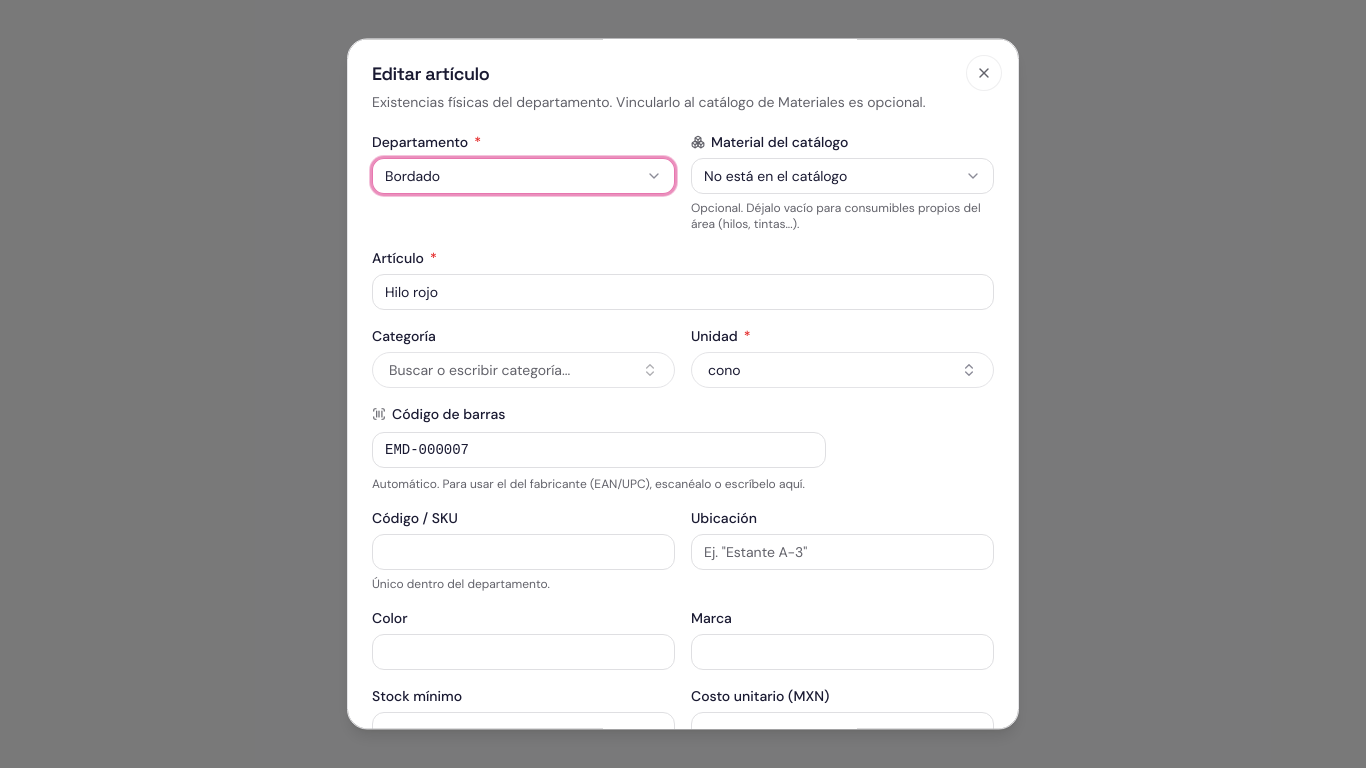
Scenario: InventoryItemDialog · código de barras › muestra el 400 de formato del backend en el campo
Clear the field labelled "Código de barras" at (599, 450), box top-left (372, 432), bottom-right (826, 468)
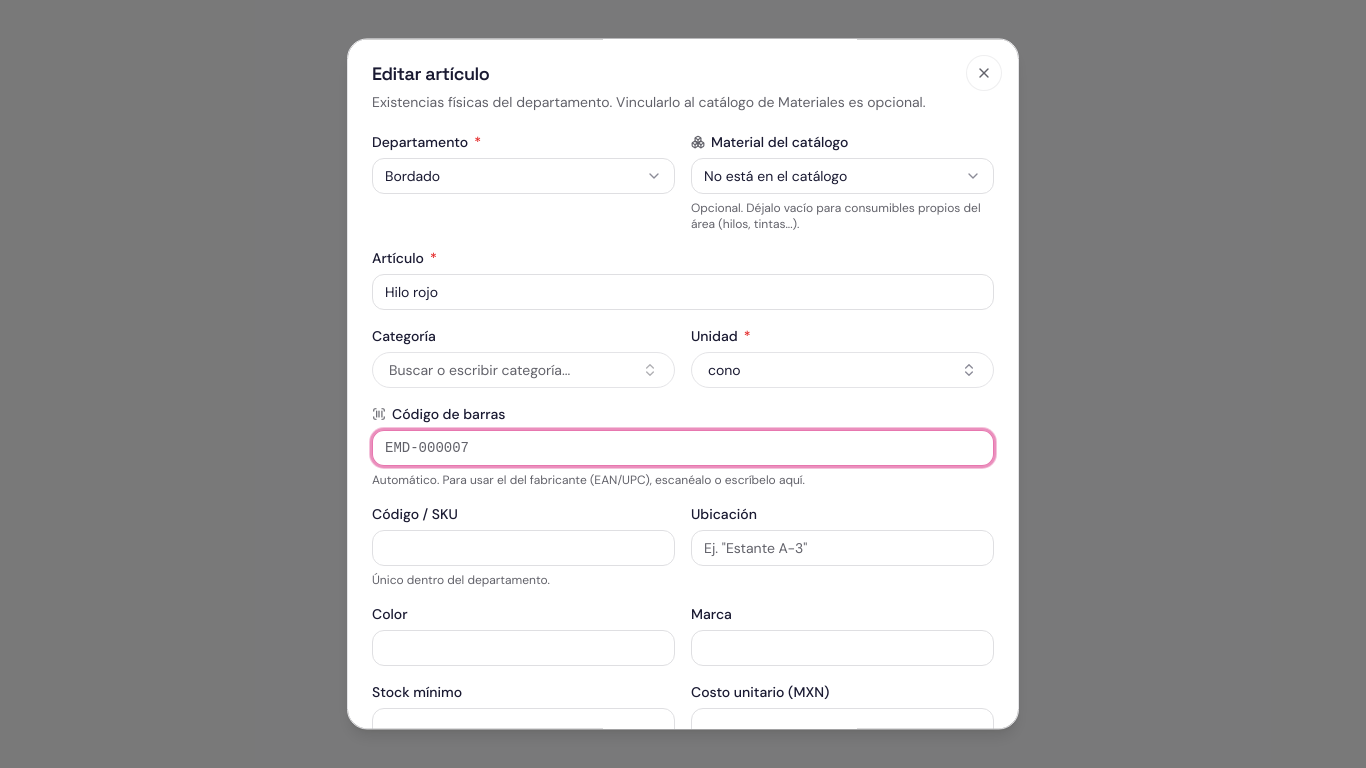
Type "ABC-123" into the field labelled "Código de barras".
click(683, 448); type("ABC-123")  # box top-left (372, 430), bottom-right (994, 466)
(page scrolled)
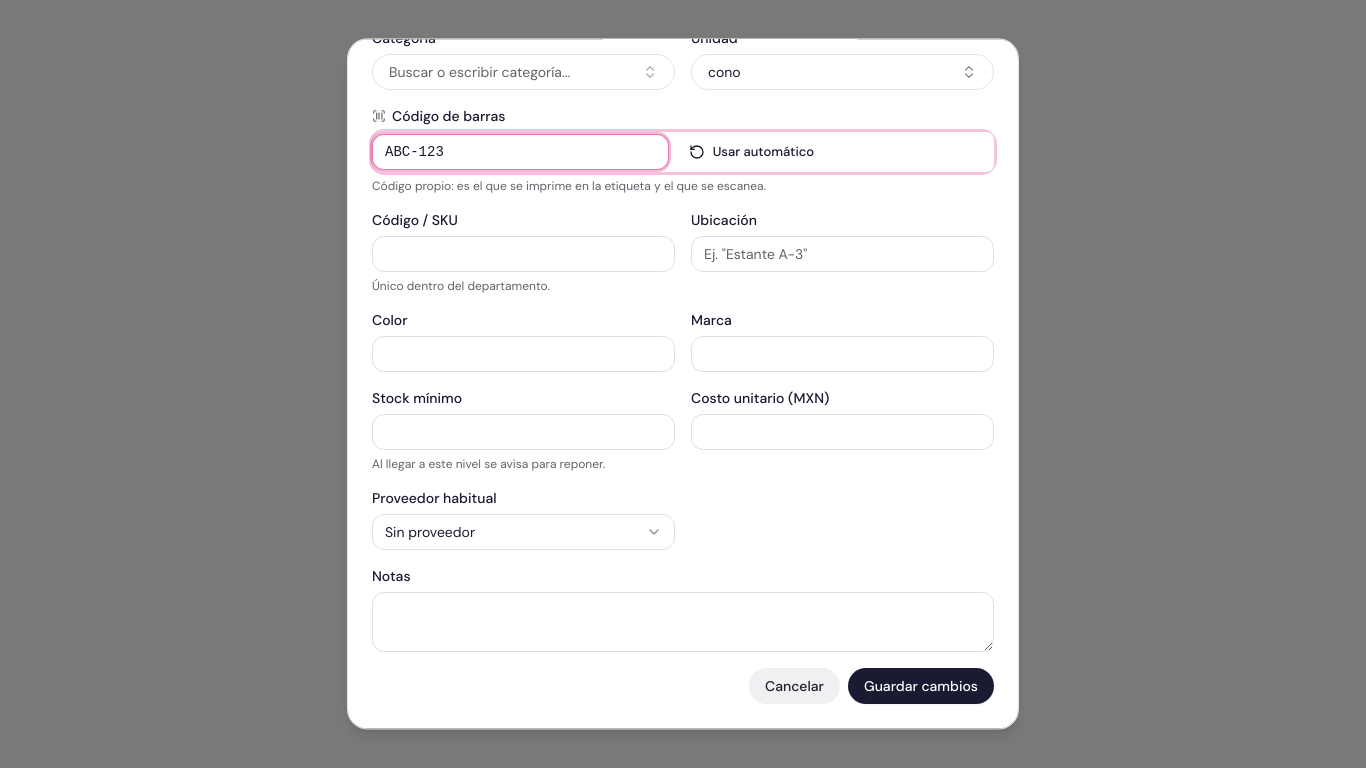
Click the button "Guardar cambios".
click(921, 686)  # box top-left (848, 668), bottom-right (994, 704)
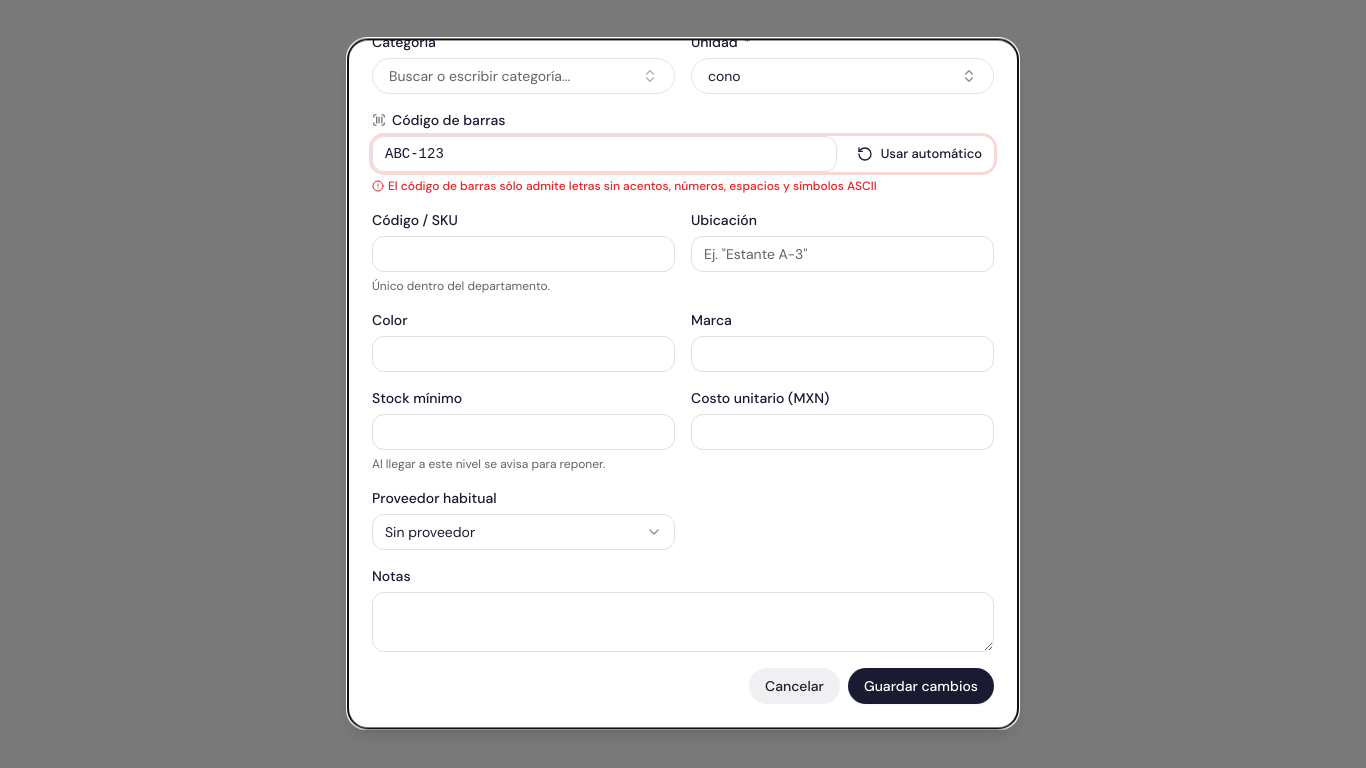
Expected: the text "sólo admite letras sin acentos" is shown, top-left (388, 178), bottom-right (877, 194)
